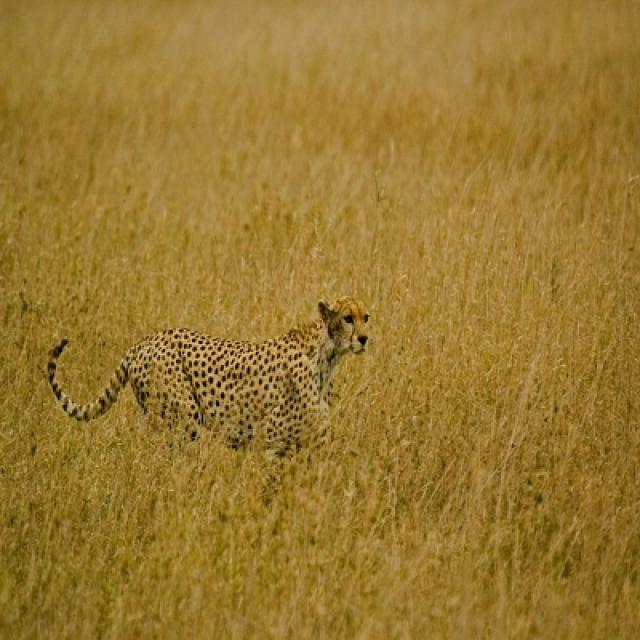Cheetah: (48, 299, 371, 461)
